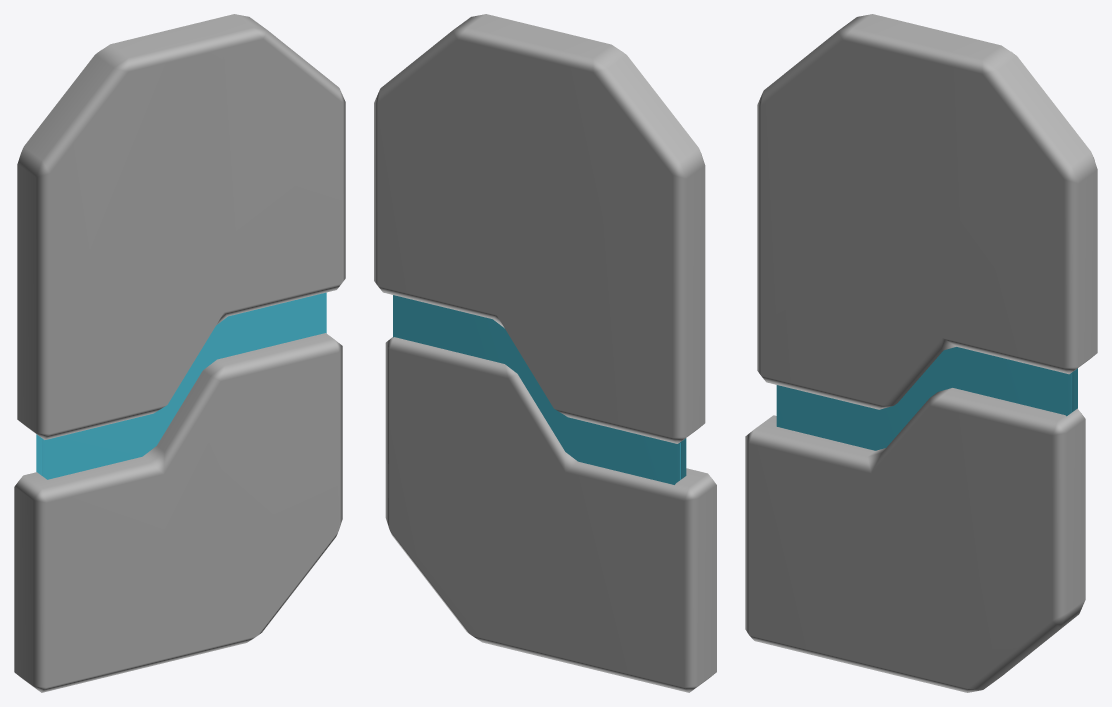
The model's file is panel_001.fbx.
The picture shows the model from 3 angles, left to right: view 1: azimuth 30°, elevation 25°; view 2: azimuth 150°, elevation 25°; view 3: azimuth 330°, elevation 25°; orthographic projection. The views are drawn at different scales.
Parts seen in each view (by area): view 1: panel_001; view 2: panel_001; view 3: panel_001.
Part boxes in pixels (<box>): panel_001: <box>14,14,345,692</box>; panel_001: <box>374,14,716,692</box>; panel_001: <box>745,14,1097,692</box>.
Size of the model in its own units: 569 by 102 by 1046.
